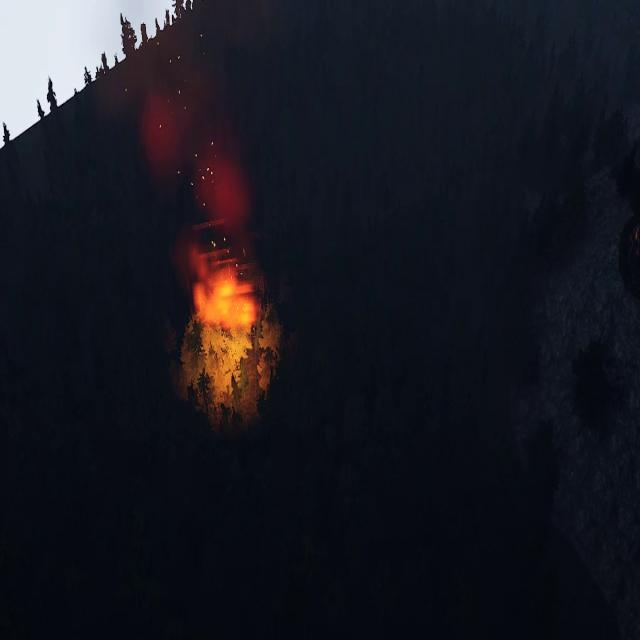fire: (194, 255, 258, 331)
smoke: (138, 68, 249, 232)
